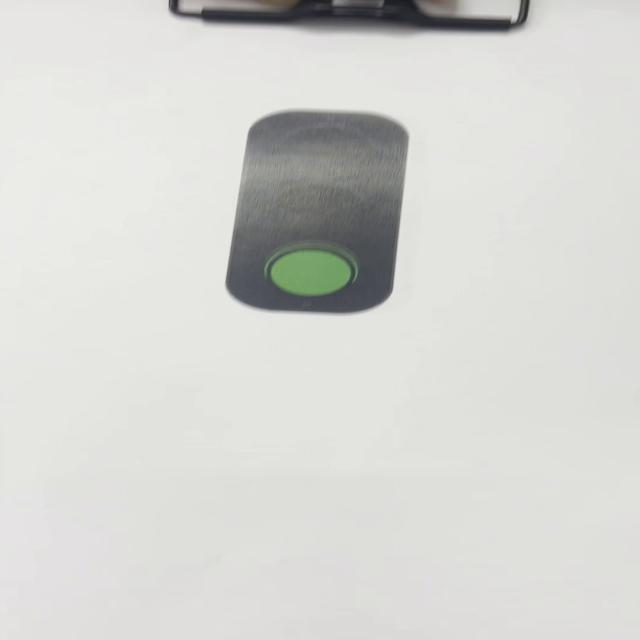green: (224, 108, 409, 317)
